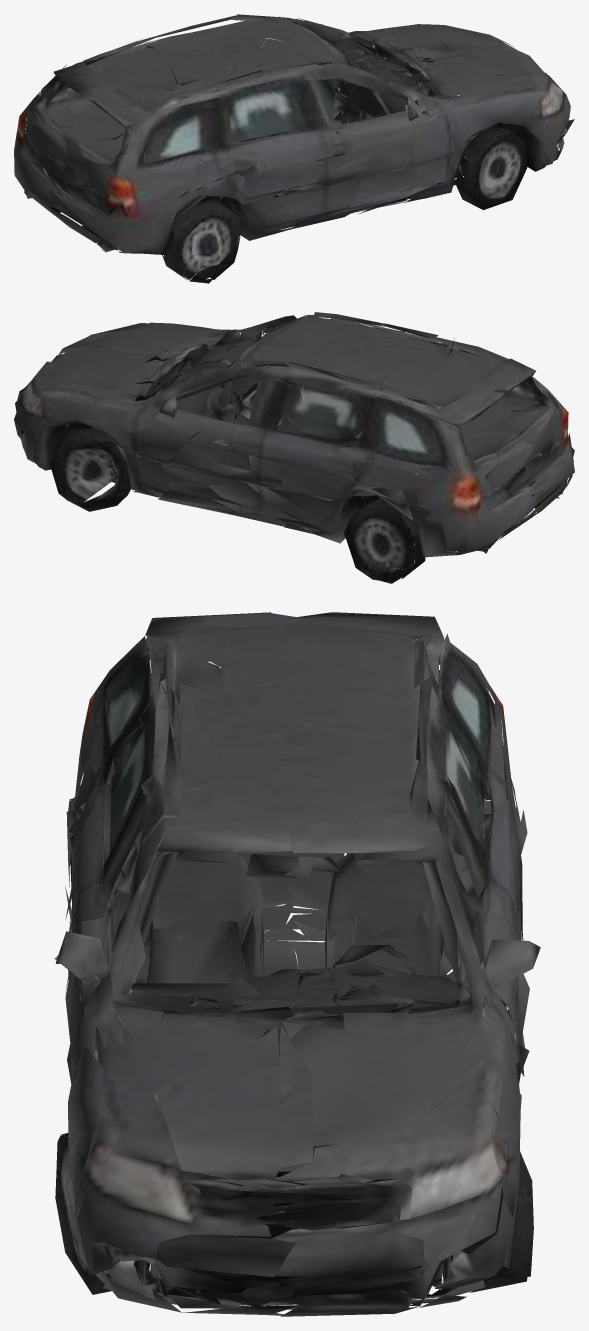
The model's file is traffic_kombi.glb.
3 renders of one model, top to bottom at view 1: azimuth 30°, elevation 25°; view 2: azimuth 150°, elevation 25°; view 3: azimuth 270°, elevation 25°, orthographic. The views are drawn at different scales.
Parts seen in each view (by area): view 1: Body, Wheel_RR, Wheel_FR, Wheel_FL; view 2: Body, Wheel_RL, Wheel_FL, Wheel_FR; view 3: Body, Wheel_FL, Wheel_FR, Wheel_RL, Wheel_RR.
Boxes of the visible parts, x1,y1,x2,y2 form: Body: [14, 14, 574, 283]; Wheel_RR: [170, 147, 304, 279]; Wheel_FR: [436, 93, 552, 209]; Wheel_FL: [339, 25, 449, 117]; Body: [14, 312, 574, 583]; Wheel_RL: [281, 445, 418, 581]; Wheel_FL: [29, 393, 143, 511]; Wheel_FR: [135, 335, 243, 404]; Body: [54, 612, 540, 1316]; Wheel_FL: [420, 1032, 533, 1292]; Wheel_FR: [55, 1046, 189, 1294]; Wheel_RL: [386, 760, 527, 996]; Wheel_RR: [65, 761, 198, 993].
Size of the model in its own units: 1 by 0.3707 by 0.4341.
1 material, 1 textured.
